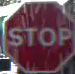Stop: (2, 2, 74, 73)
